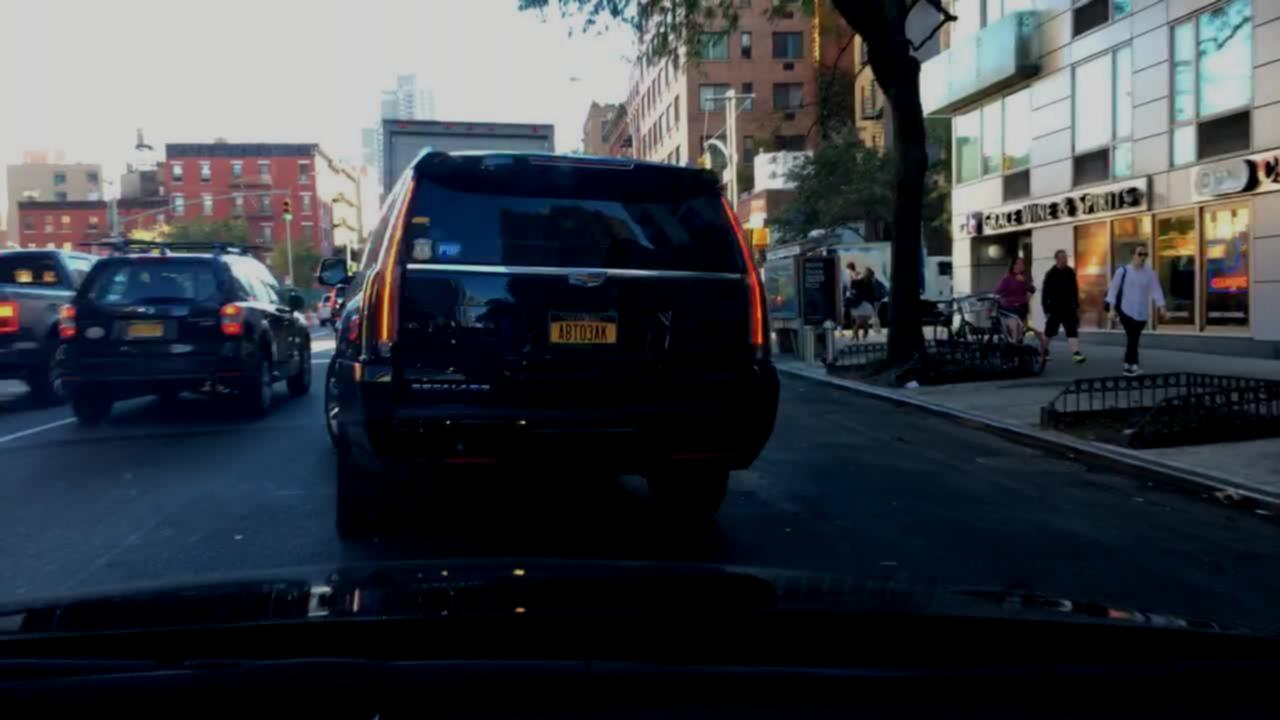cadillac: (555, 258, 628, 298)
